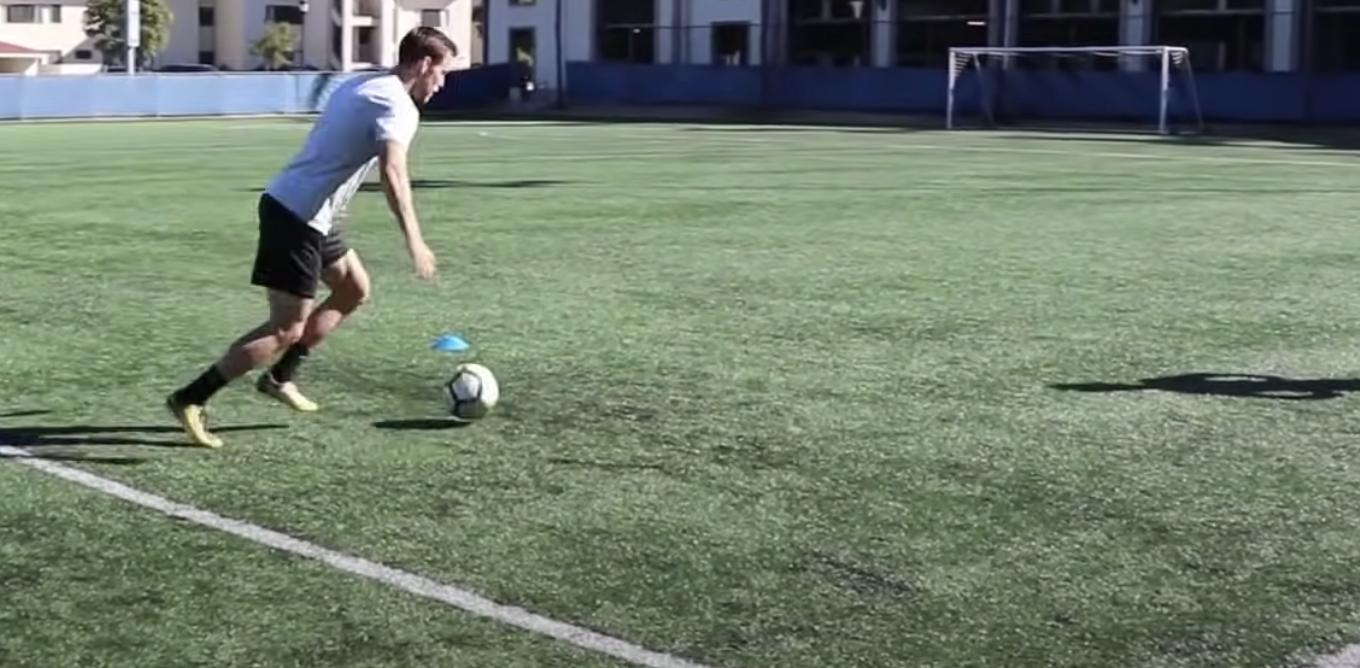ball: (442, 364, 497, 417)
foot: (164, 387, 225, 449), (256, 367, 324, 419)
person: (164, 25, 458, 447)
